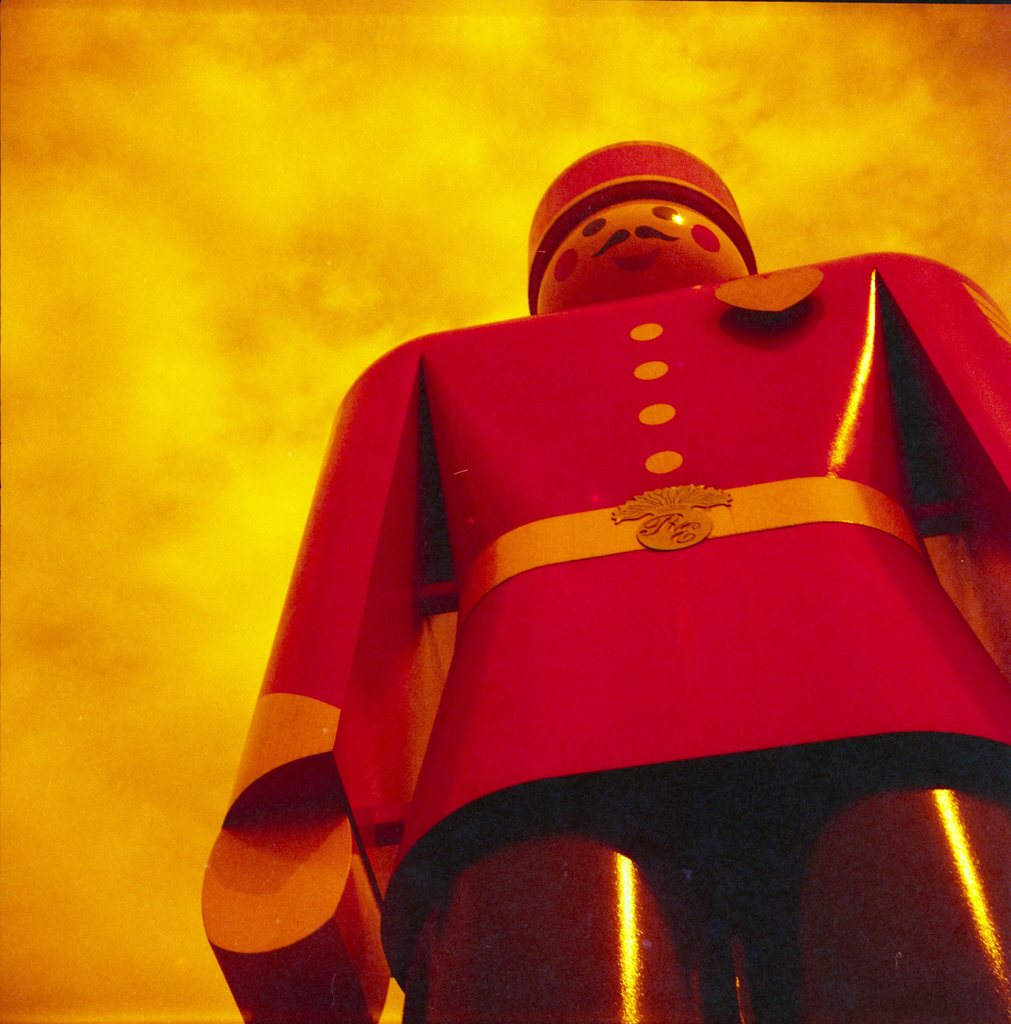Person: (199, 139, 1010, 1024)
